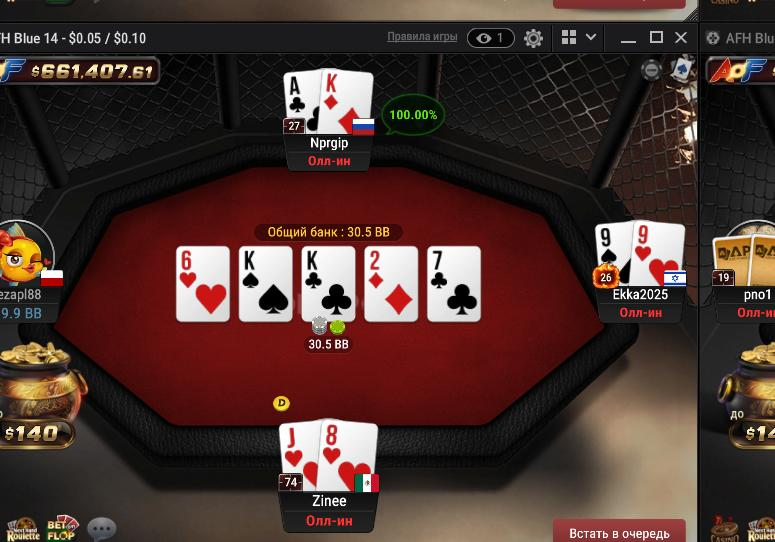2d: (364, 246, 417, 320)
6h: (176, 245, 229, 322)
7c: (427, 247, 480, 321)
8h: (319, 419, 379, 497)
9h: (633, 220, 684, 283)
9s: (593, 224, 632, 290)
Ac: (282, 72, 320, 135)
Jh: (277, 422, 319, 491)
Kc: (302, 247, 355, 321)
Kd: (321, 69, 372, 134)
Ks: (239, 247, 292, 321)
